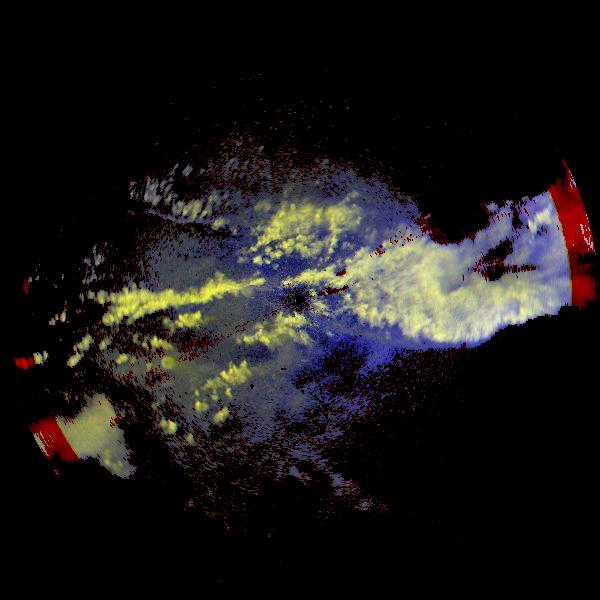roost: (150, 345, 186, 381)
